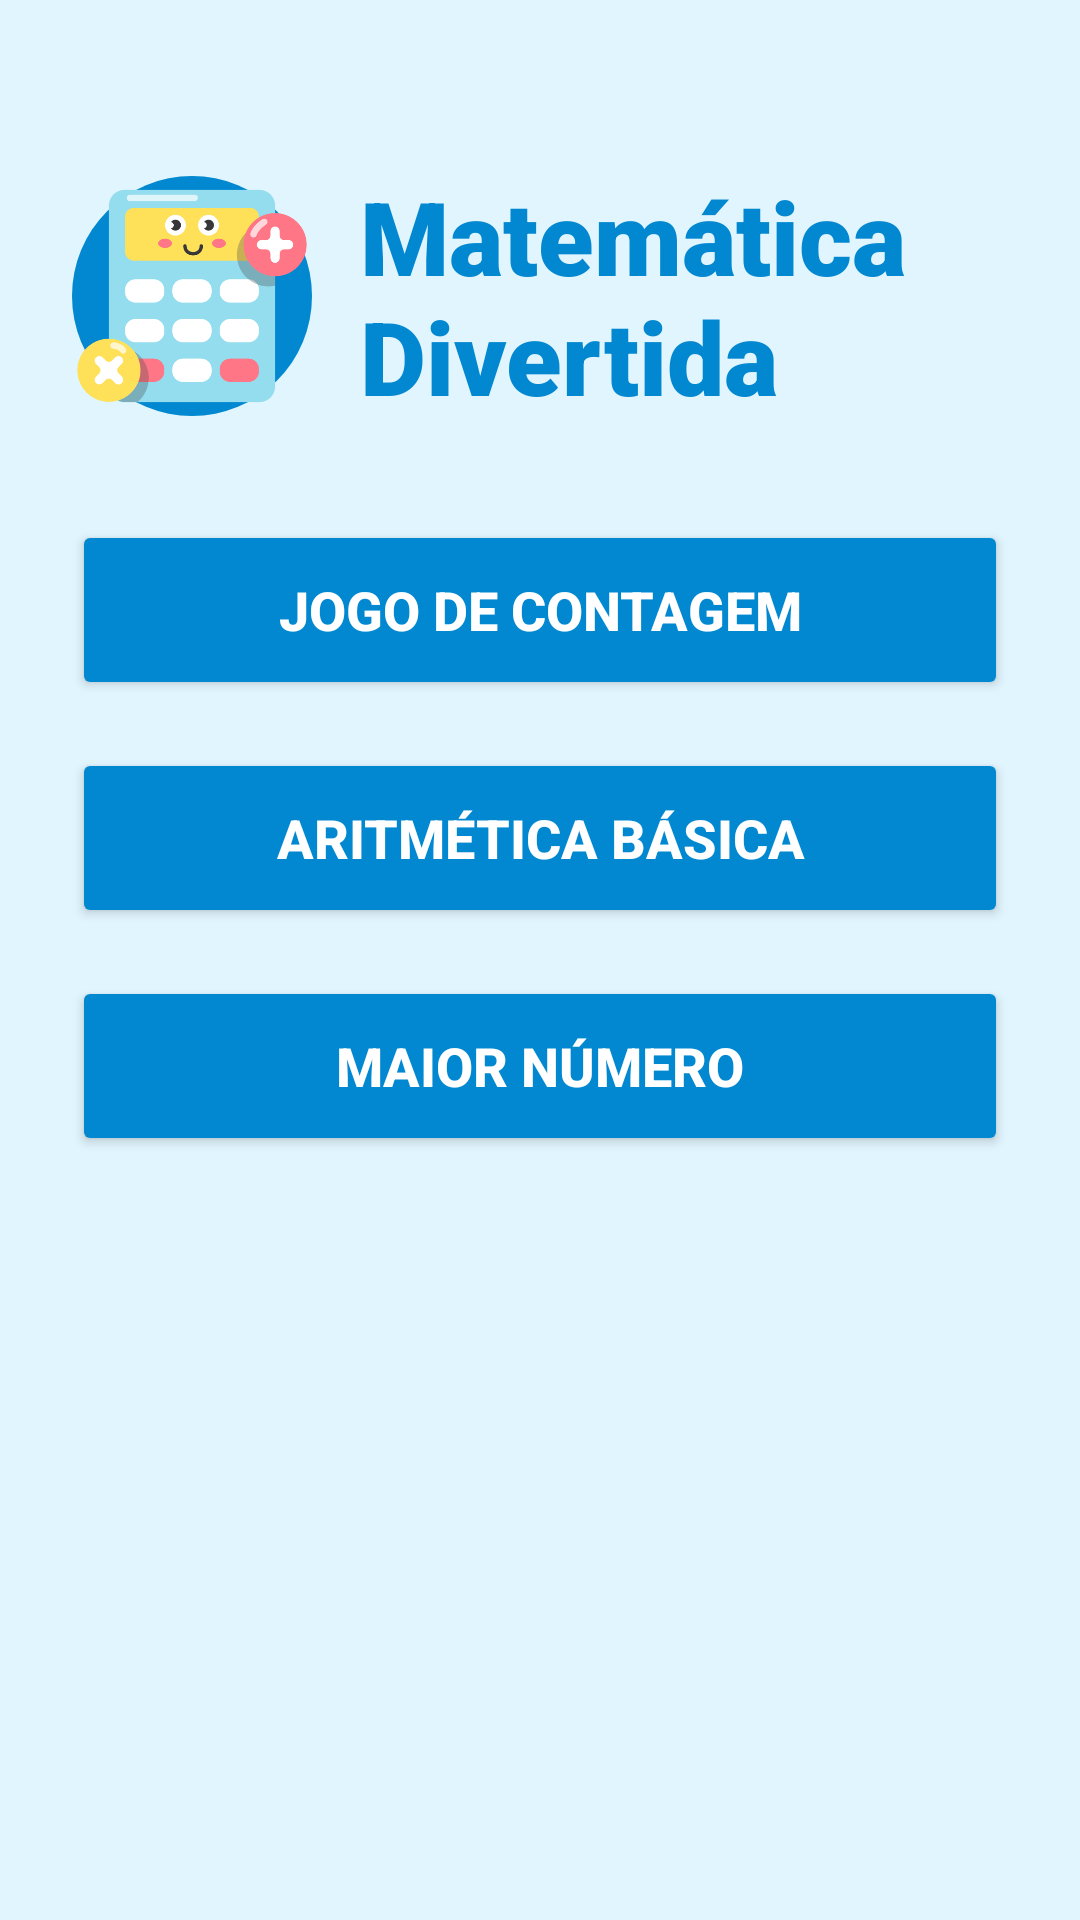

Icon click points for this 1080w x 1920h phone screenshot, format (x=x, y=y):
Ícone de Matemática: (x=192, y=296)
